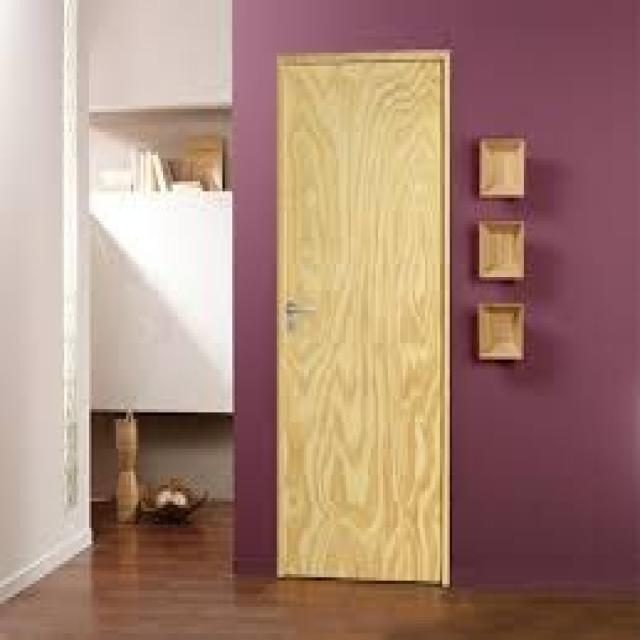door: (276, 50, 450, 588)
